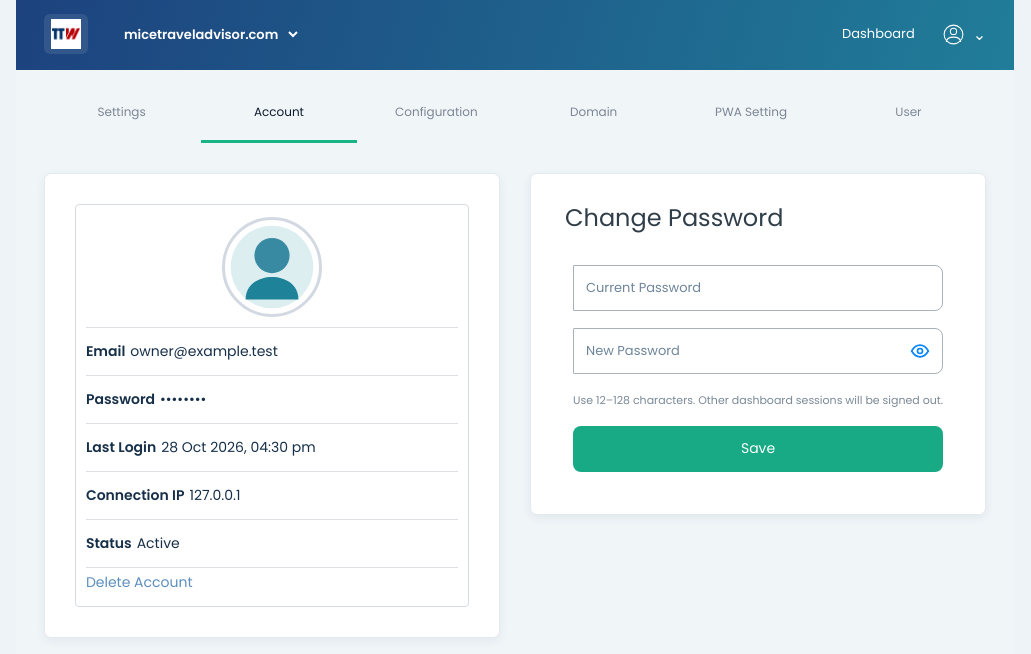
it: successful password changes update the session token and clear the form
The image size is (1031, 654).
Expected: the text "owner@example.test" is shown, [130,341,278,362]
Type "current-password-123" into the password field labelled "Current Password". click: (758, 288)
box: [573,265,943,311]
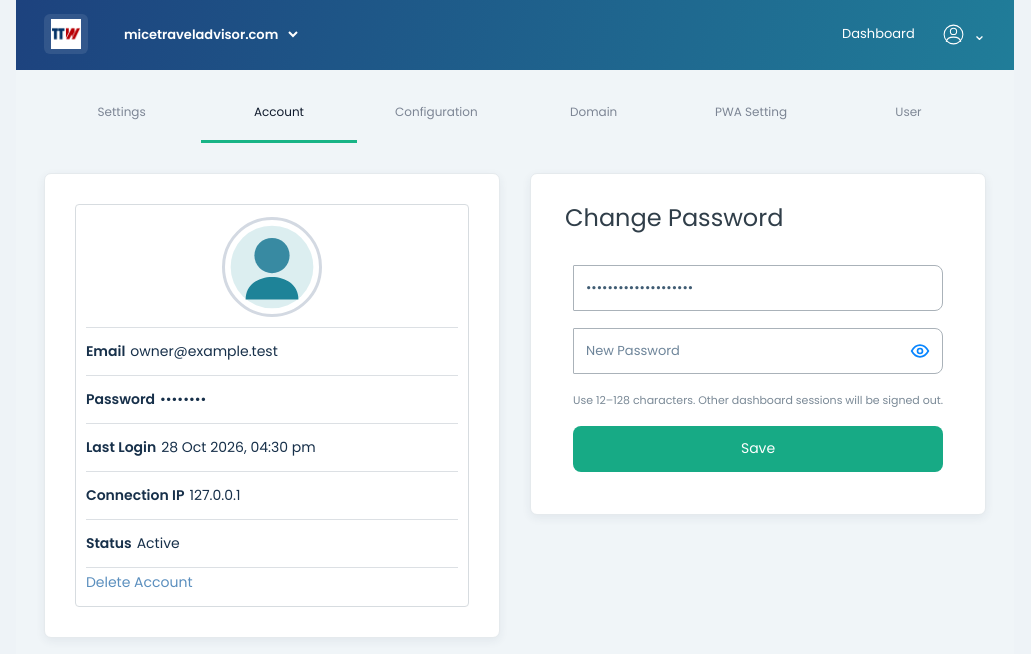
Type "new-password-456" into the password field labelled "New Password". click: (736, 351)
box: [574,329,898,373]
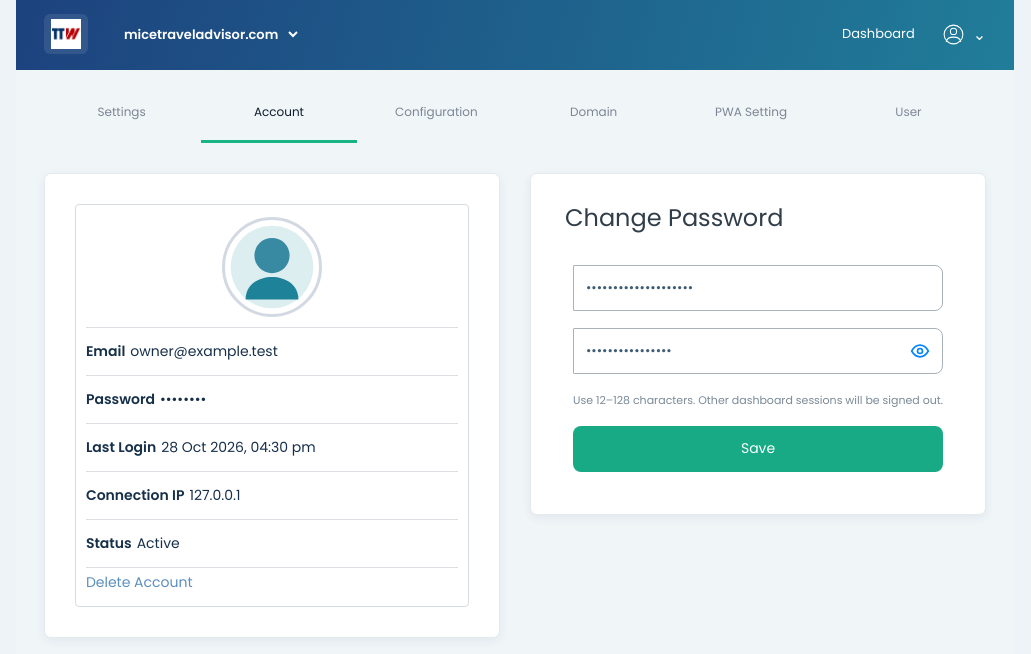
Click the button "Save". click: (758, 449)
box: [573,426,943,472]
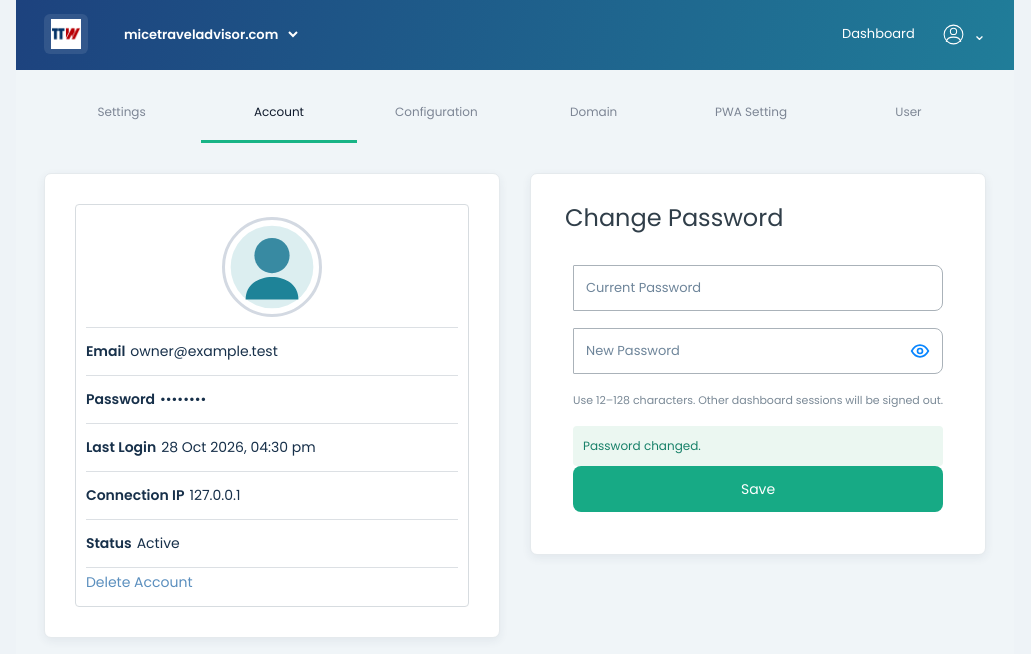
Now the text "Password changed." is shown, box [573,426,943,466]
Now the password field labelled "Current Password" is empty, box [573,265,943,311]
Now the password field labelled "New Password" is empty, box [574,329,898,373]
